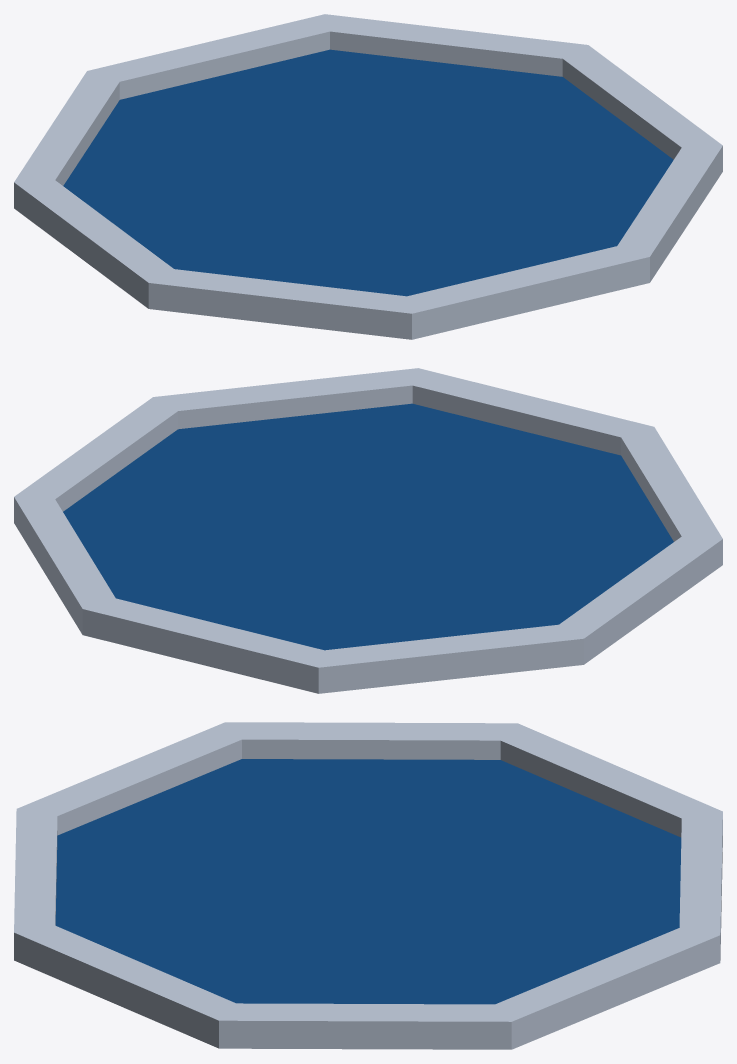
The model's file is base_space_blue.fbx.
The picture shows the model from 3 angles, top to bottom: view 1: azimuth 30°, elevation 25°; view 2: azimuth 150°, elevation 25°; view 3: azimuth 270°, elevation 25°; orthographic projection. The views are drawn at different scales.
Visible parts, largest first — view 1: basic_space_blue; view 2: basic_space_blue; view 3: basic_space_blue.
Boxes of the visible parts, x1,y1,x2,y2 form: basic_space_blue: (14,14,722,339); basic_space_blue: (14,368,722,693); basic_space_blue: (14,722,722,1049).
Bounding box in the file's own units: 115 × 5 × 115.
